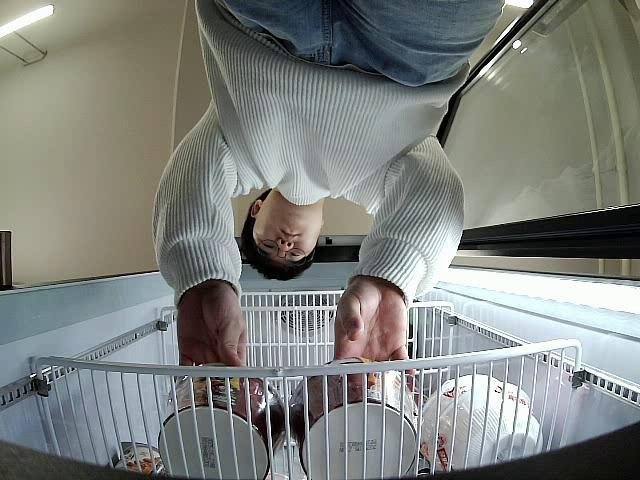05_nuguri_L: (158, 359, 288, 480), (293, 358, 421, 480)
